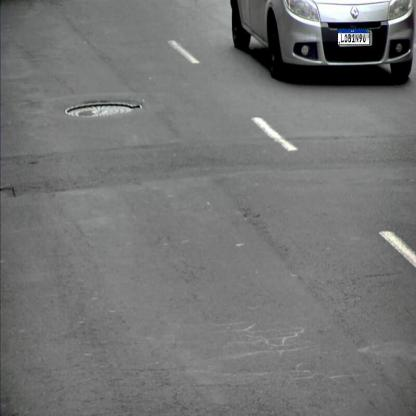PlacaM: (338, 28, 370, 45)
